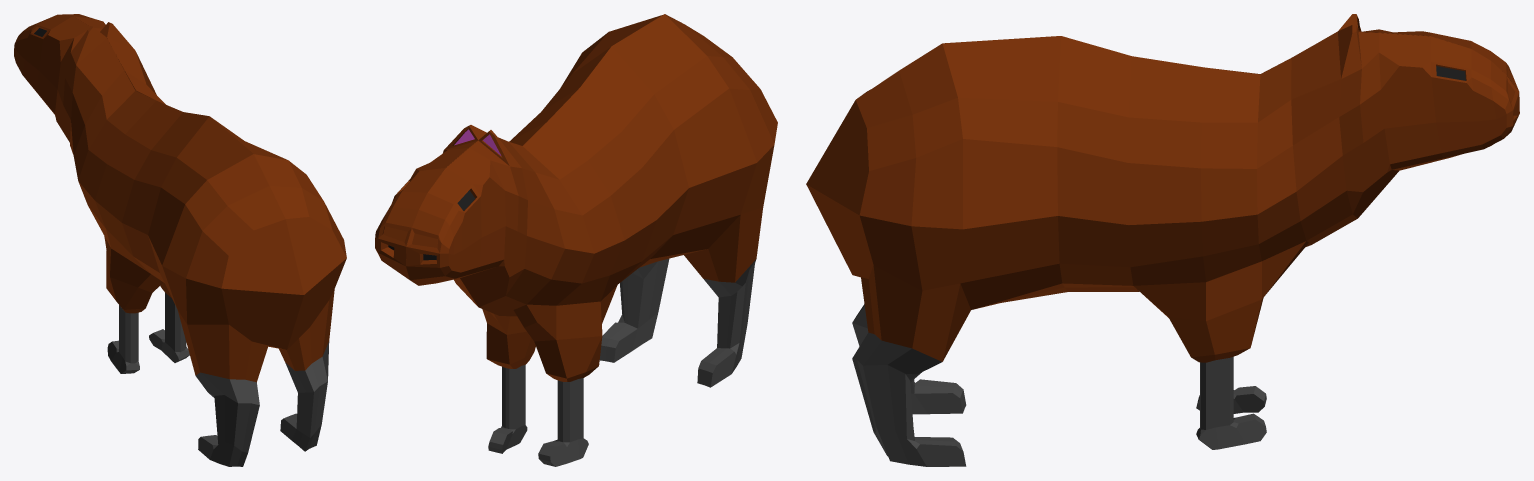
File: capibara.fbx
3 views of the same model, side by side, from view 1: azimuth 30°, elevation 25°; view 2: azimuth 150°, elevation 25°; view 3: azimuth 270°, elevation 25° (orthographic). The views are drawn at different scales.
Visible parts, largest first — view 1: Cube; view 2: Cube; view 3: Cube.
Boxes of the visible parts, left/top/right/bottom form: Cube: left=14, top=14, right=346, bottom=466; Cube: left=375, top=14, right=777, bottom=466; Cube: left=806, top=14, right=1519, bottom=466.
Size of the model in its own units: 154 by 271 by 421.
